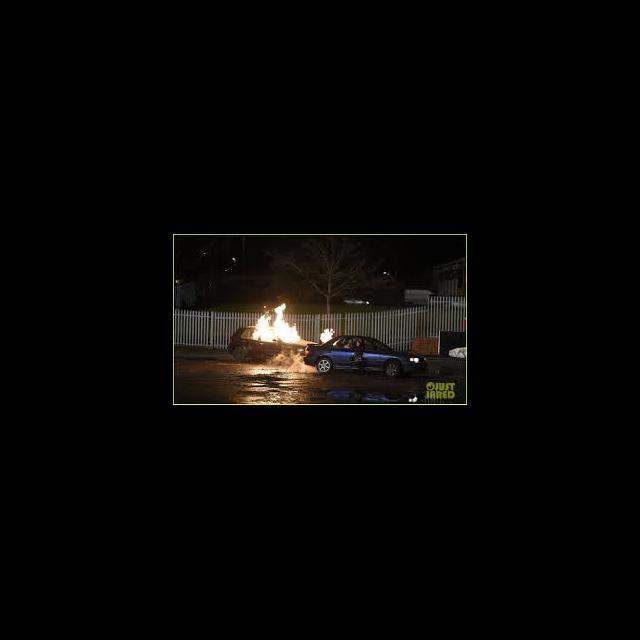Fire: (249, 303, 303, 345), (317, 326, 335, 344)
